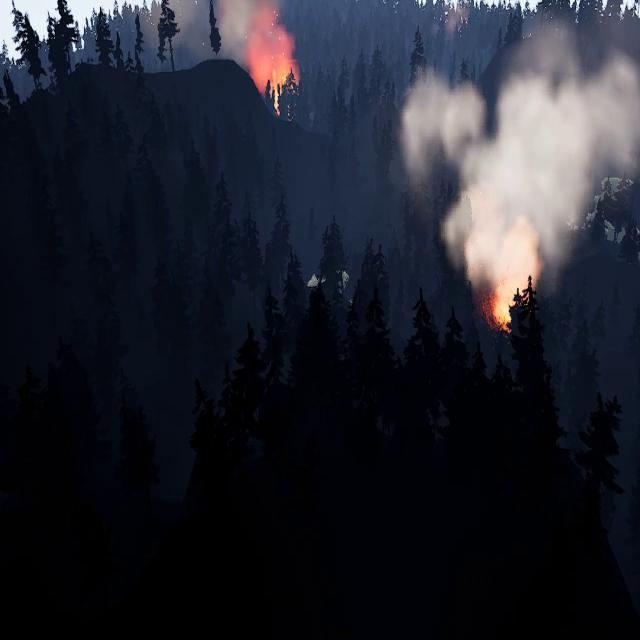fire: (257, 36, 301, 114), (490, 276, 530, 328)
smoke: (402, 12, 640, 294), (164, 0, 289, 74)
